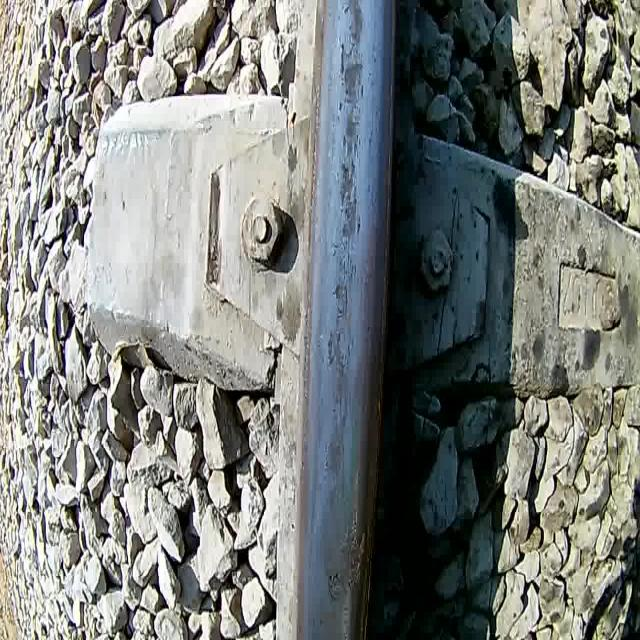Squats: (333, 160, 364, 241), (322, 327, 351, 389), (342, 0, 368, 54), (339, 58, 367, 108), (321, 429, 347, 482), (337, 114, 362, 158), (331, 277, 347, 310)
